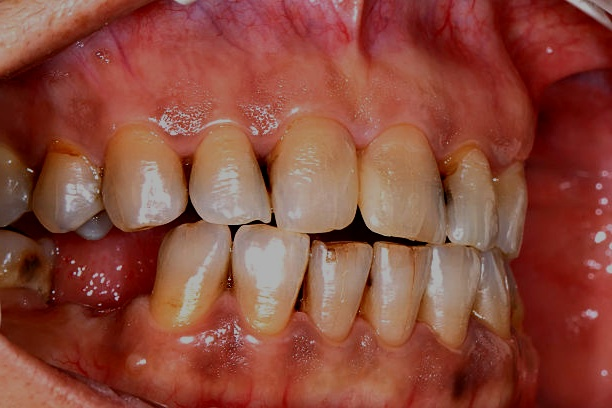Gingivitis: (425, 338, 510, 399), (396, 12, 486, 65), (190, 313, 243, 374)
